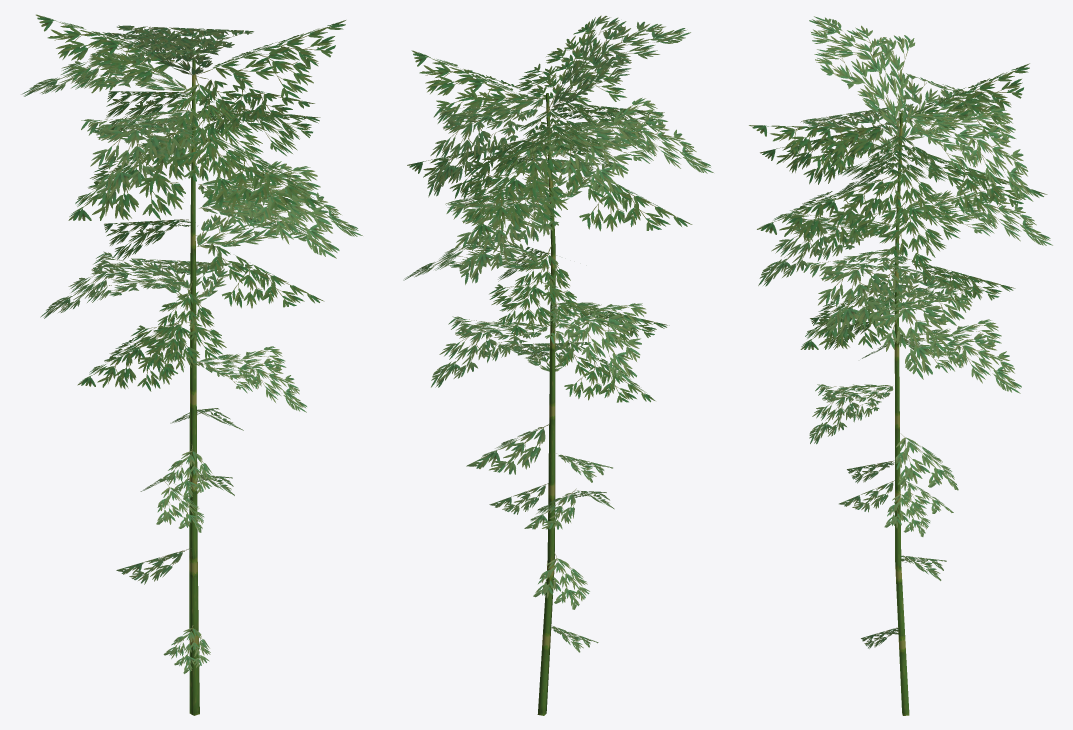
Rendered from m_bamboo02.fbx.
The picture shows the model from 3 angles, left to right: view 1: azimuth 30°, elevation 25°; view 2: azimuth 150°, elevation 25°; view 3: azimuth 270°, elevation 25°; orthographic projection. The views are drawn at different scales.
Visible parts, largest first — view 1: mesh_bamboo02; view 2: mesh_bamboo02; view 3: mesh_bamboo02.
Part boxes in pixels (x1,y1,x2,y2): mesh_bamboo02: (21, 14, 362, 715); mesh_bamboo02: (403, 15, 713, 715); mesh_bamboo02: (749, 16, 1052, 715).
Size of the model in its own units: 2.38 by 5.58 by 2.41.
